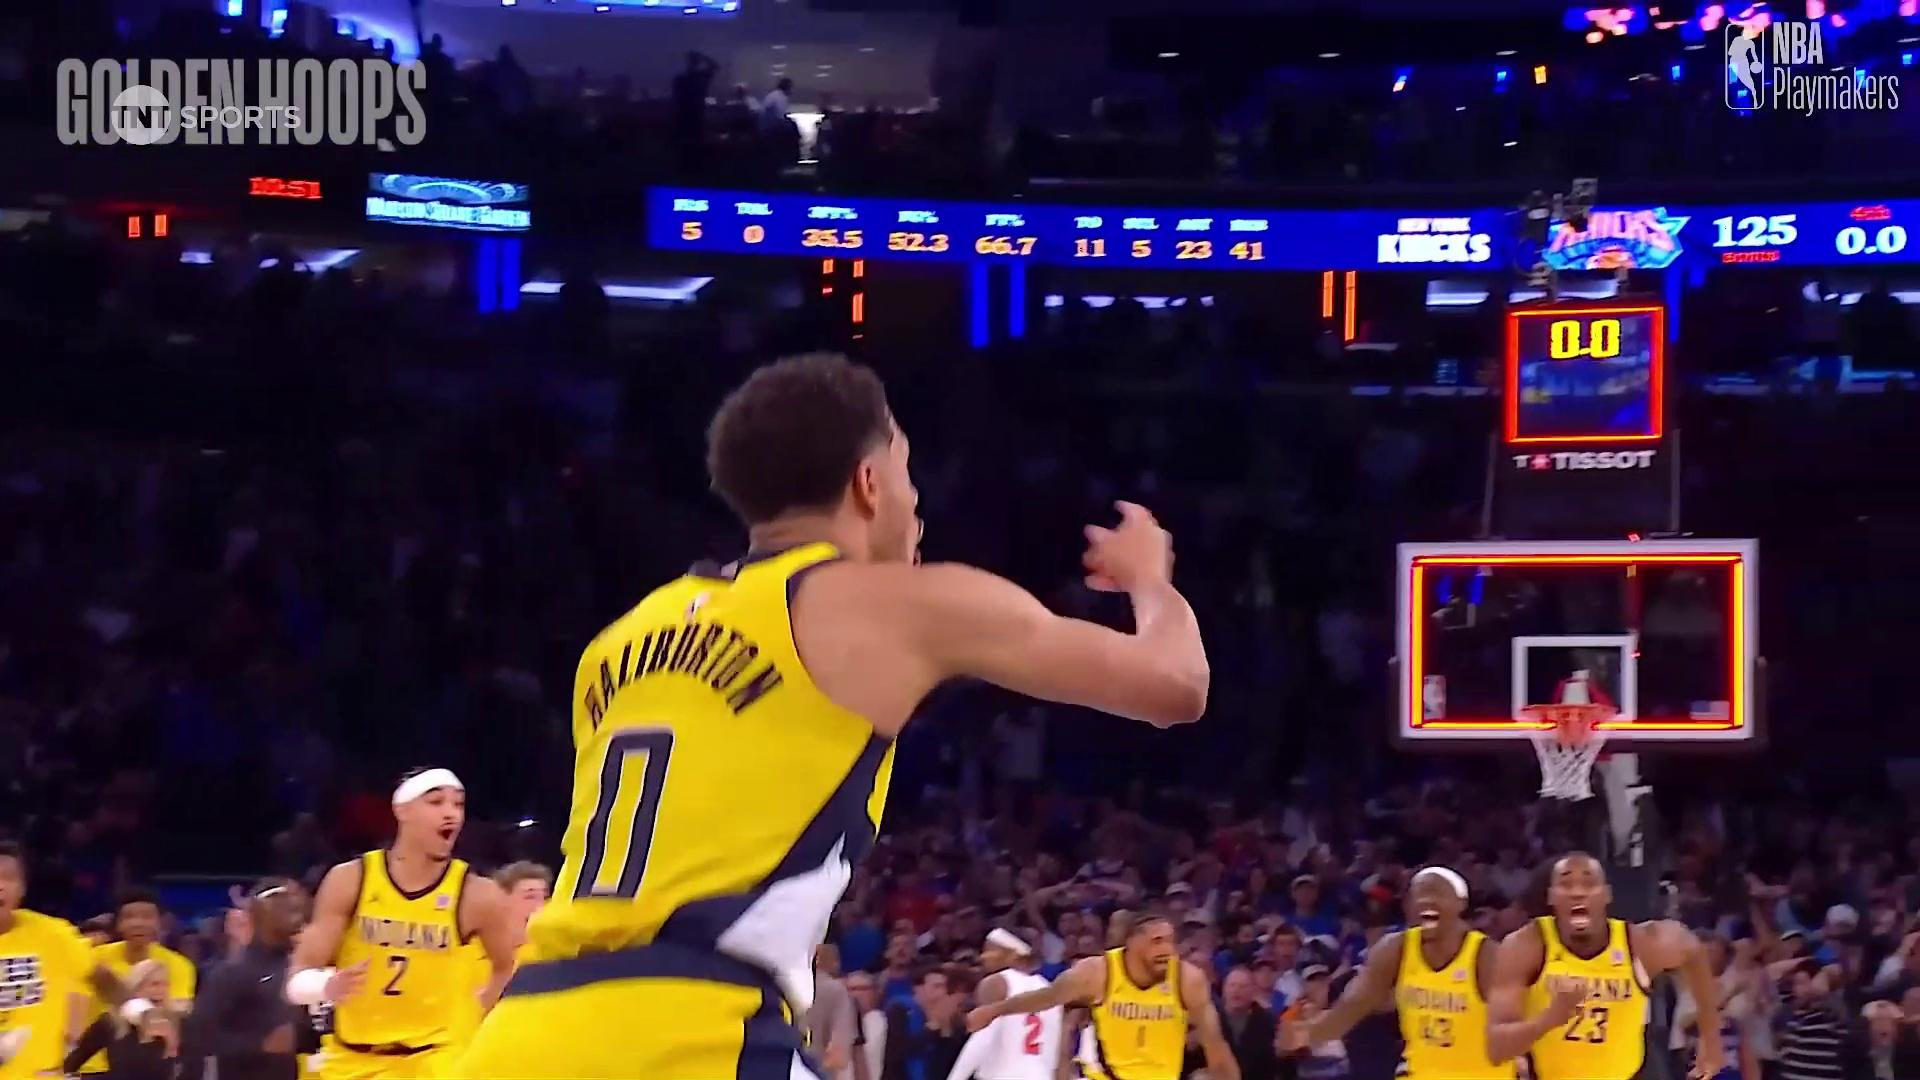hoop: (1532, 699, 1607, 803)
